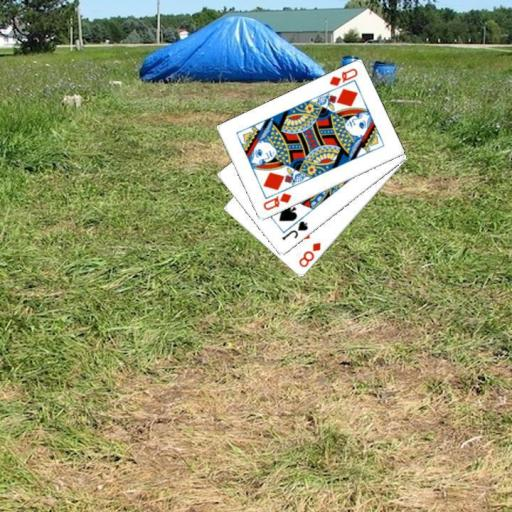8D: (296, 239, 322, 269)
JS: (279, 218, 309, 242)
QD: (326, 66, 359, 89), (260, 190, 293, 212)
